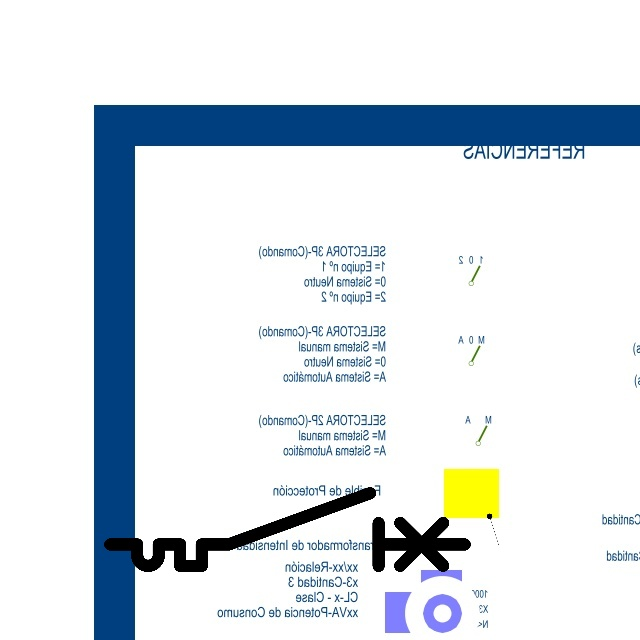interruptor_termomagnetico: (101, 484, 474, 575)
